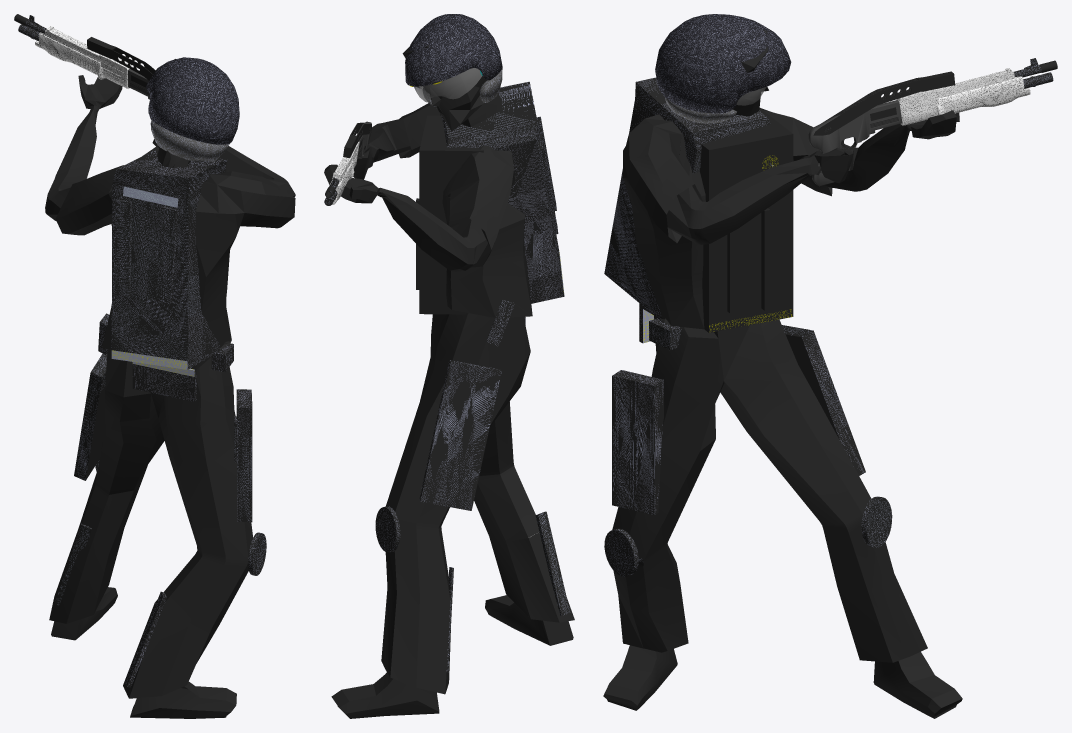
Rendered from Officer5.fbx.
The picture shows the model from 3 angles, left to right: view 1: azimuth 30°, elevation 25°; view 2: azimuth 150°, elevation 25°; view 3: azimuth 270°, elevation 25°; orthographic projection. The views are drawn at different scales.
Parts seen in each view (by area): view 1: ember1_1_1, Group2, spas_12_1, Group3; view 2: ember1_1_1, Group2, spas_12_1, GIe_HELMET_2_1, Group3; view 3: ember1_1_1, Group2, spas_12_1.
Boxes of the visible parts, x1,y1,x2,y2 form: ember1_1_1: [45, 59, 295, 718]; Group2: [146, 57, 239, 144]; spas_12_1: [14, 14, 155, 99]; Group3: [150, 120, 229, 162]; ember1_1_1: [324, 45, 574, 718]; Group2: [405, 14, 502, 87]; spas_12_1: [324, 121, 371, 205]; GIe_HELMET_2_1: [414, 68, 482, 102]; Group3: [423, 68, 502, 107]; ember1_1_1: [603, 30, 962, 718]; Group2: [655, 14, 791, 113]; spas_12_1: [808, 58, 1057, 186].
Bounding box in the file's own units: 0.604 × 1.89 × 1.12.
